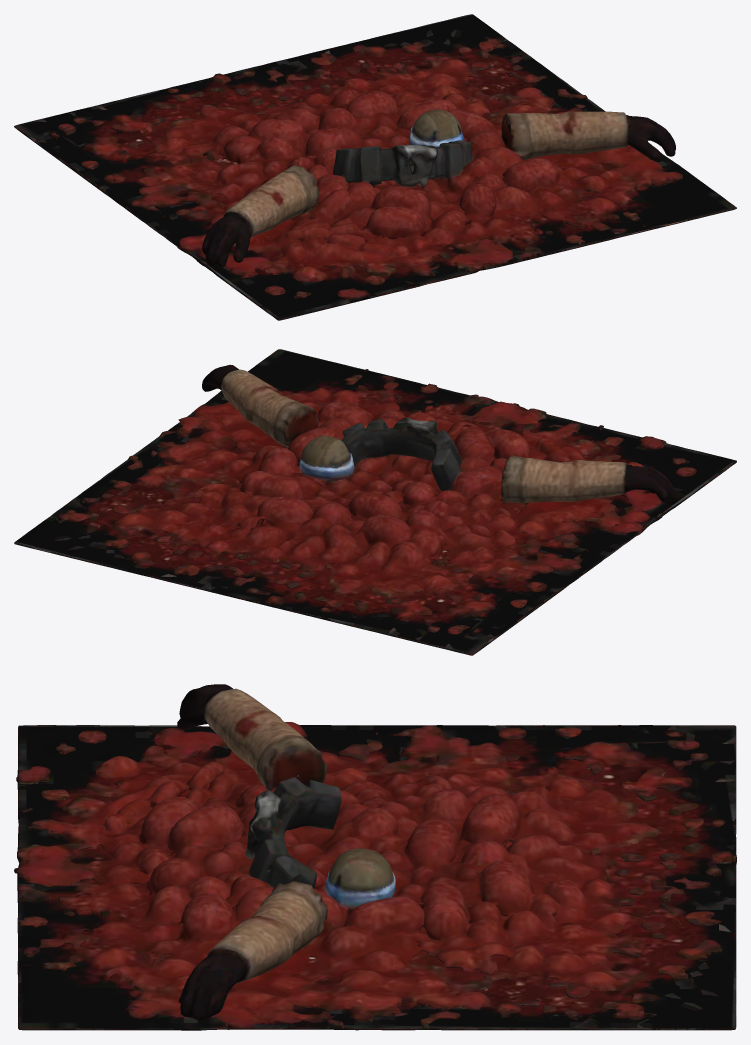
The model's file is POSSU0_2026-08-22T182724.213.glb.
The picture shows the model from 3 angles, top to bottom: view 1: azimuth 30°, elevation 25°; view 2: azimuth 150°, elevation 25°; view 3: azimuth 270°, elevation 25°; orthographic projection. The views are drawn at different scales.
Visible parts, largest first — view 1: world; view 2: world; view 3: world.
Part boxes in pixels (x1,y1,x2,y2): world: (14,14,736,320); world: (14,349,736,655); world: (14,684,736,1030).
Bounding box in the file's own units: 1 × 0.1167 × 0.9907.
Materials: 1 (1 with a texture image).
